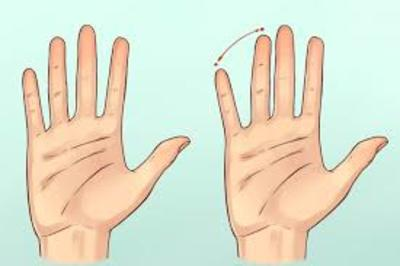mindinho: (209, 55, 241, 153), (15, 59, 45, 161)
